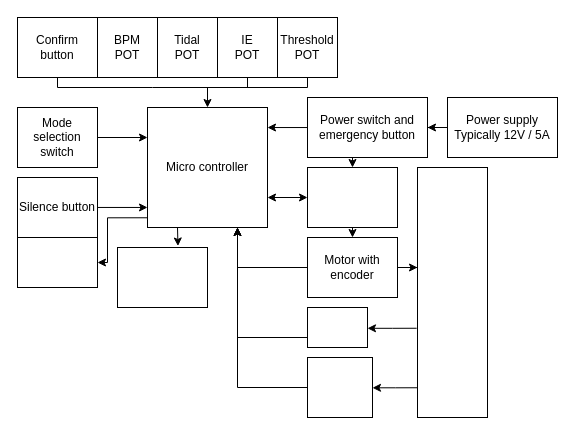
This 575x435 diagram has some shape labels left out. The shapes that lost their labels are listed below. From the top down, each one's centre as x and y in pixels, then its label:
(x=352, y=197): Motor drive
(x=57, y=262): Alarm and LED
(x=162, y=277): LCD 20x4
(x=452, y=292): Mechanical system
(x=337, y=327): Limit switch
(x=339, y=387): Pressure transducer
